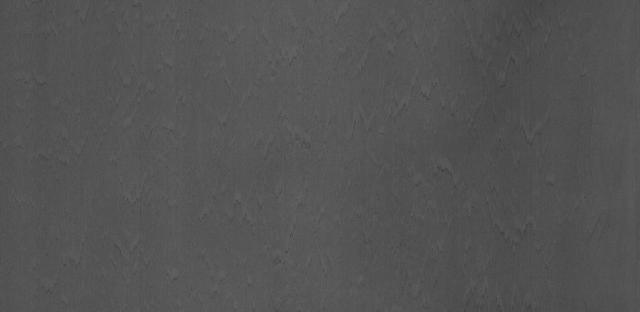silk_spot: (355, 51, 482, 248), (220, 47, 339, 246), (496, 43, 583, 247)
